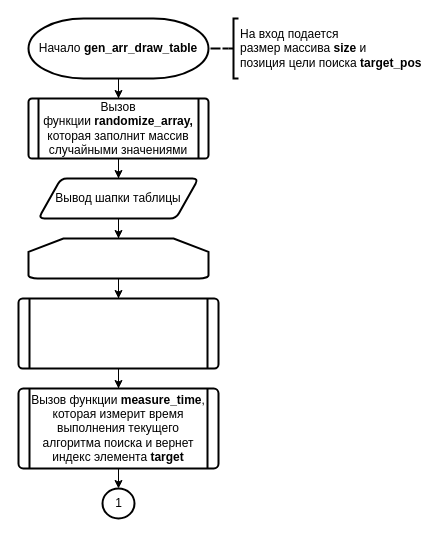
The diagram is 438 pixels wide and 536 high, and some of its shapes have lost their labels. Each missing label, with the centre of its shape:
"Вызов функции sup_funcs[i] , которая вернет элемент target на позиции target_pos" belongs at point (118, 333).
"Цикл А: i = (0...4) с шагом 1" belongs at point (118, 258).
